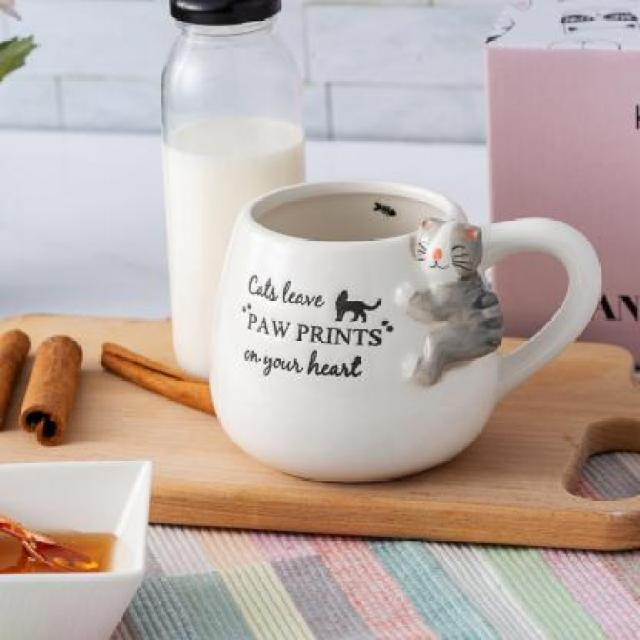taza: (209, 177, 602, 487)
